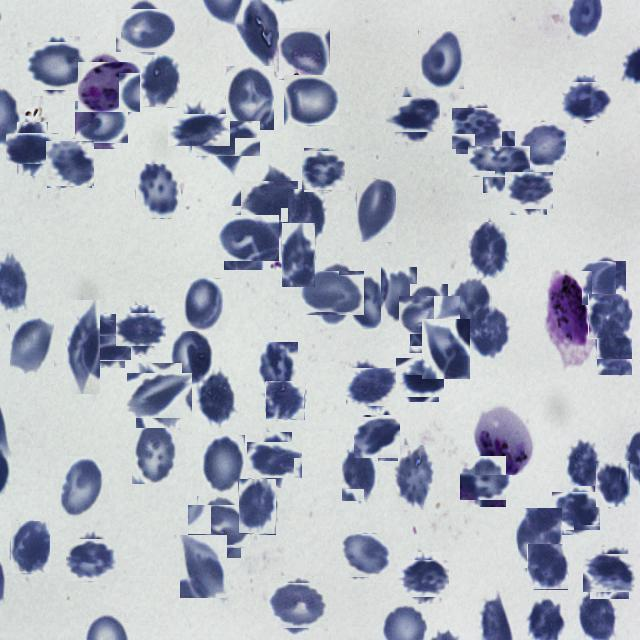gametocyte: (545, 271, 592, 365)
red blood cell: (248, 173, 304, 230), (67, 300, 100, 394), (132, 368, 188, 423), (226, 66, 274, 130), (306, 266, 360, 321), (220, 210, 274, 265), (180, 535, 227, 598), (132, 420, 178, 484), (29, 39, 83, 93), (58, 456, 104, 519), (422, 319, 470, 379), (192, 501, 245, 554), (284, 74, 338, 126), (418, 31, 464, 90), (272, 580, 324, 632), (278, 28, 330, 80), (120, 4, 172, 56), (200, 113, 252, 165), (518, 508, 562, 568), (394, 445, 434, 510), (10, 316, 54, 374), (135, 164, 181, 219), (404, 290, 454, 340), (202, 435, 245, 493), (357, 179, 396, 242), (171, 330, 214, 384), (519, 120, 567, 168), (343, 532, 391, 580), (78, 98, 126, 146), (68, 536, 116, 584), (80, 317, 128, 365), (468, 222, 509, 278), (476, 138, 523, 186), (176, 106, 223, 154), (184, 276, 225, 331), (46, 140, 93, 187), (140, 54, 180, 109), (469, 306, 510, 359), (238, 478, 276, 534), (10, 521, 50, 574), (452, 279, 492, 332), (454, 106, 500, 152), (463, 458, 509, 504), (251, 437, 297, 483), (282, 223, 315, 287), (198, 371, 236, 426), (288, 189, 326, 244), (587, 550, 632, 596), (390, 92, 435, 137), (564, 78, 610, 122), (258, 342, 298, 392), (349, 365, 394, 409), (381, 267, 417, 322), (588, 294, 632, 339), (341, 449, 378, 502), (554, 488, 598, 532), (398, 356, 442, 400), (402, 556, 446, 600), (580, 258, 624, 302), (355, 416, 399, 460), (596, 323, 632, 376), (527, 544, 568, 590), (507, 169, 550, 212), (352, 276, 387, 328), (12, 128, 54, 170), (120, 309, 162, 351), (302, 149, 344, 191), (566, 439, 600, 490), (596, 461, 630, 507), (266, 382, 305, 421)
trophozoite: (475, 408, 533, 474), (81, 59, 137, 114)
